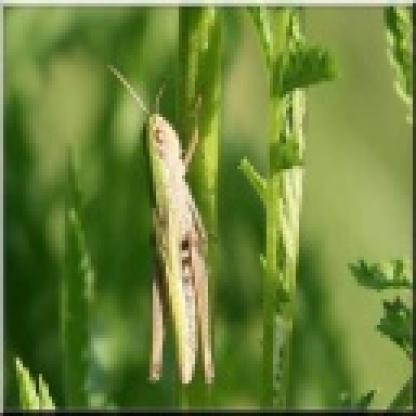grasshopper: (100, 66, 223, 395)
